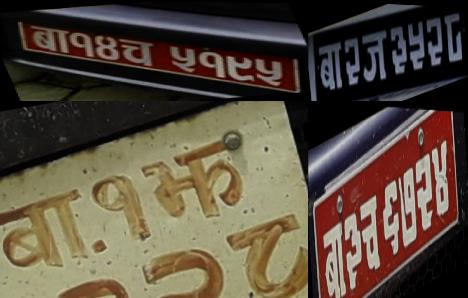1: (86, 163, 155, 253), (193, 48, 235, 80), (64, 30, 99, 59)
2: (140, 236, 235, 298), (414, 142, 435, 239), (424, 8, 445, 67), (342, 31, 362, 87)
3: (54, 270, 154, 298), (342, 204, 364, 296), (388, 19, 409, 79)
4: (430, 129, 453, 227), (88, 32, 125, 61)
5: (247, 54, 292, 87), (162, 42, 205, 74), (406, 15, 427, 73)
6: (378, 168, 402, 268)
7: (397, 157, 418, 256)
8: (220, 206, 308, 298), (443, 6, 465, 65)
9: (221, 52, 259, 83)
ba: (0, 186, 96, 277), (318, 212, 348, 298), (24, 21, 77, 57), (316, 36, 344, 96)
cha: (358, 185, 383, 284), (114, 35, 163, 68)
ja: (359, 22, 390, 90)
jha: (136, 130, 253, 232)
